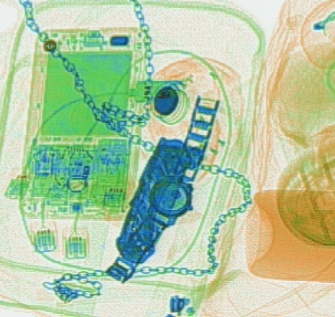knife: (114, 135, 201, 268)
